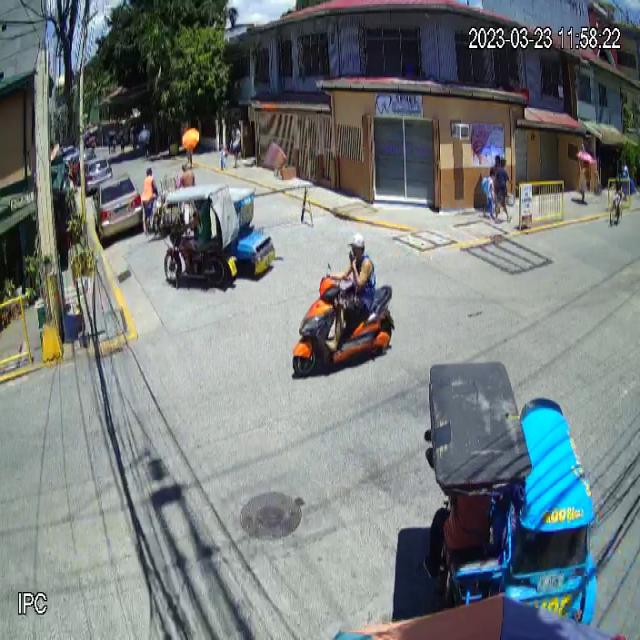Motorcycle: (292, 263, 395, 375)
Tricycle: (428, 361, 599, 623), (162, 185, 276, 289)
